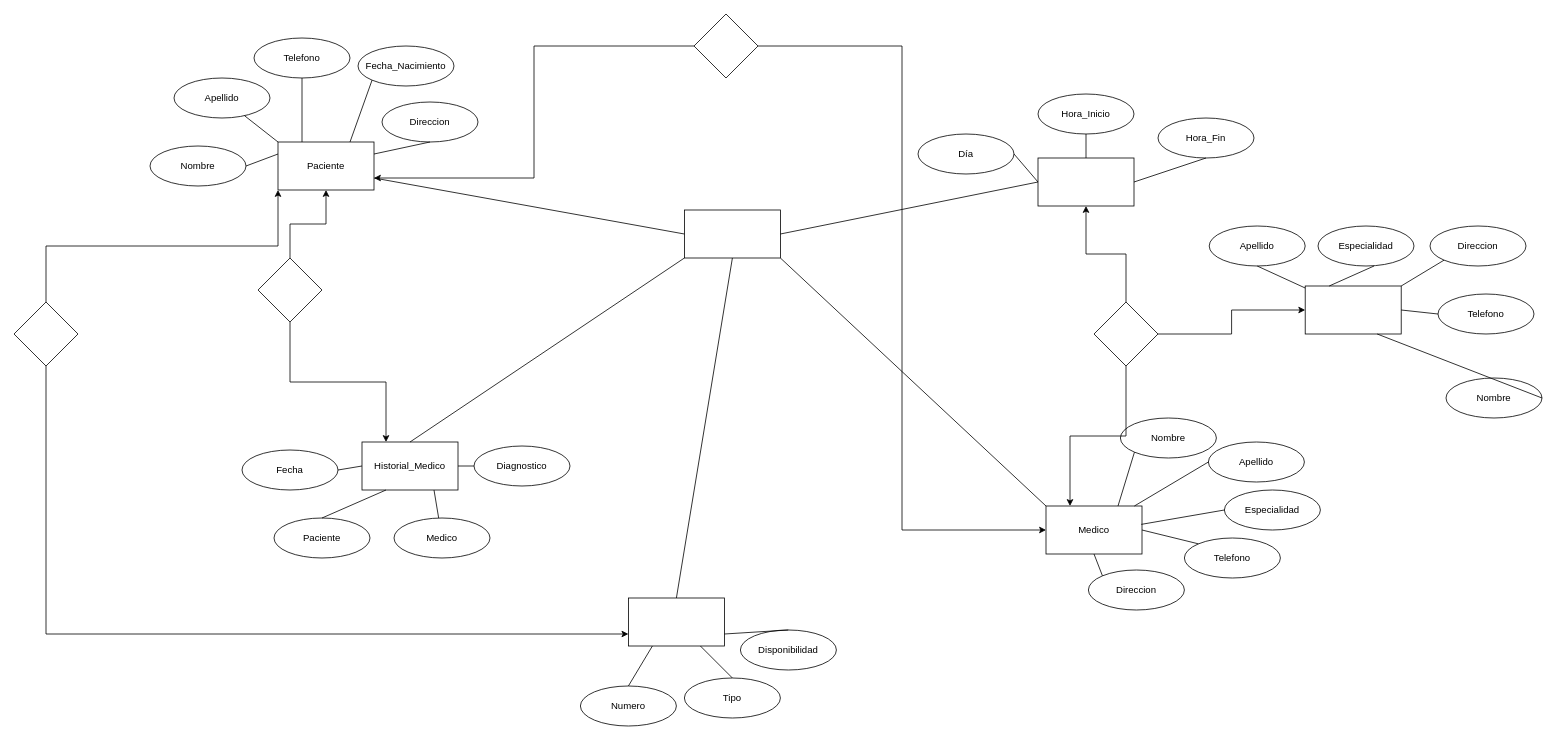
The diagram is 1557 pixels wide and 740 high, and some of its shapes have lost their labels. Each missing label, with the centre of its shape:
Asignado_A: (x=1125, y=333)
Consulta: (x=732, y=233)
Enfermera: (x=1352, y=309)
Habitación: (x=676, y=621)
Ocupa: (x=45, y=333)
Tiene: (x=289, y=289)
Trata_A: (x=725, y=45)
Turno: (x=1085, y=181)
